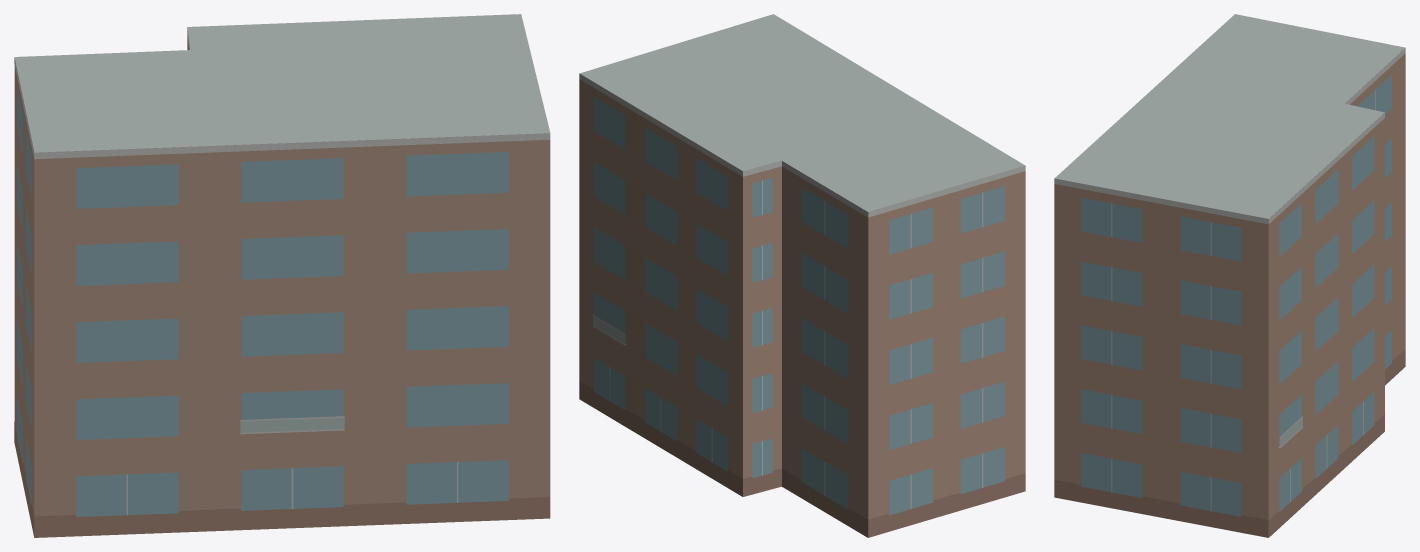
The model's file is survey-upis-32755171.glb.
The picture shows the model from 3 angles, left to right: view 1: azimuth 30°, elevation 25°; view 2: azimuth 150°, elevation 25°; view 3: azimuth 270°, elevation 25°; orthographic projection. The views are drawn at different scales.
Visible parts, largest first — view 1: survey-upis-32755171.tmp; view 2: survey-upis-32755171.tmp; view 3: survey-upis-32755171.tmp.
Part boxes in pixels (x1,y1,x2,y2): survey-upis-32755171.tmp: (14,14,550,537); survey-upis-32755171.tmp: (579,14,1025,537); survey-upis-32755171.tmp: (1054,14,1405,537).
Bounding box in the file's own units: 19.71 × 14.3 × 14.28.
